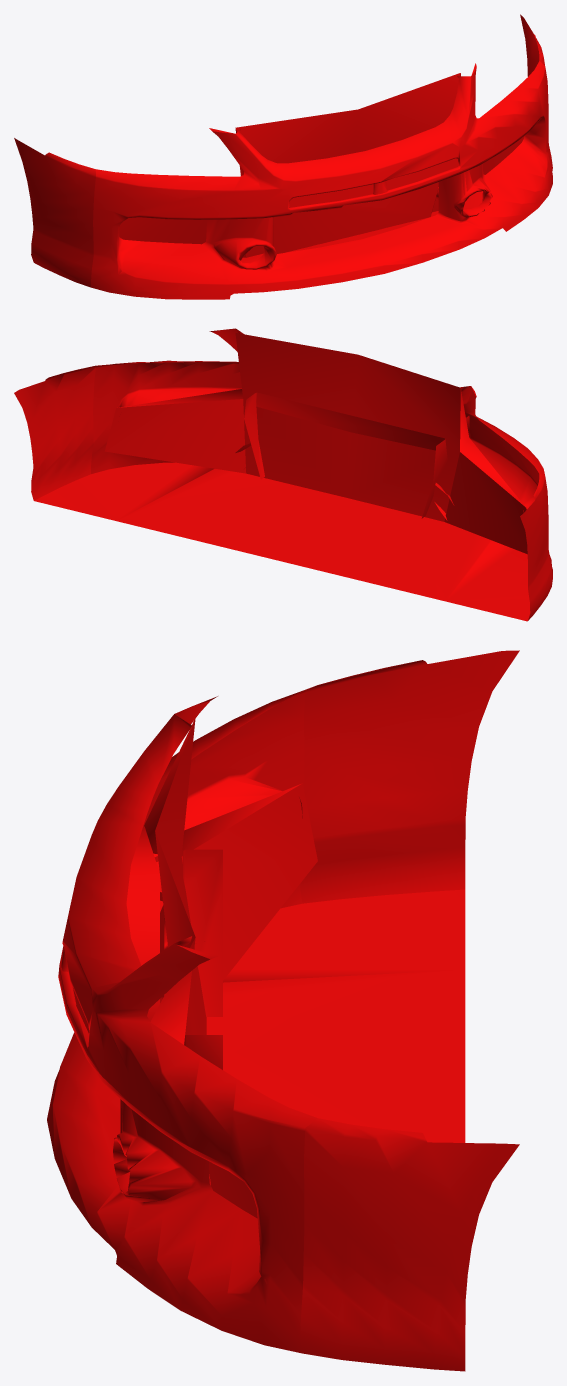
Rendered from evo9_front_boot.FBX.
The picture shows the model from 3 angles, top to bottom: view 1: azimuth 30°, elevation 25°; view 2: azimuth 150°, elevation 25°; view 3: azimuth 270°, elevation 25°; orthographic projection. The views are drawn at different scales.
Visible parts, largest first — view 1: BumperF; view 2: BumperF; view 3: BumperF.
Part boxes in pixels (box(x1,y1,x2,y2)): BumperF: box(14, 14, 552, 299); BumperF: box(14, 328, 552, 621); BumperF: box(47, 650, 519, 1371).
Bounding box in the file's own units: 3882 × 1116 × 1572.
